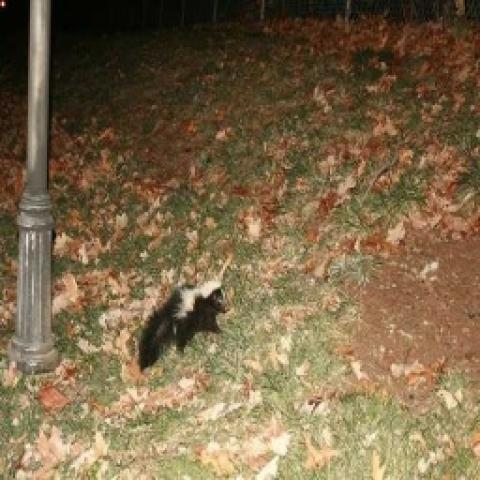small_animal: (133, 276, 231, 373)
